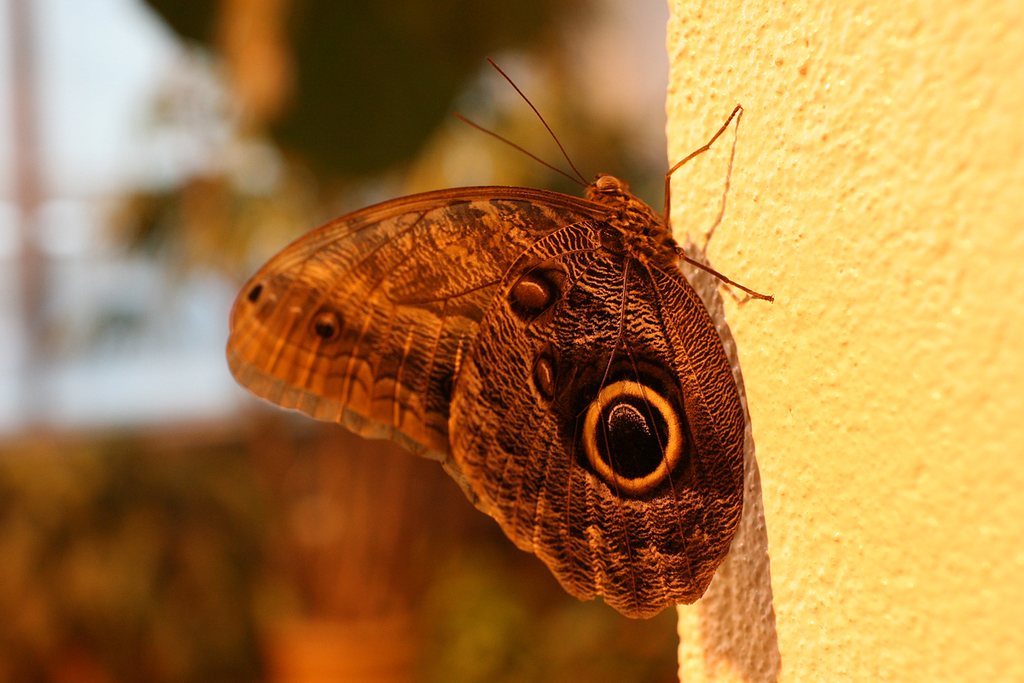Butterfly: (198, 152, 780, 621)
